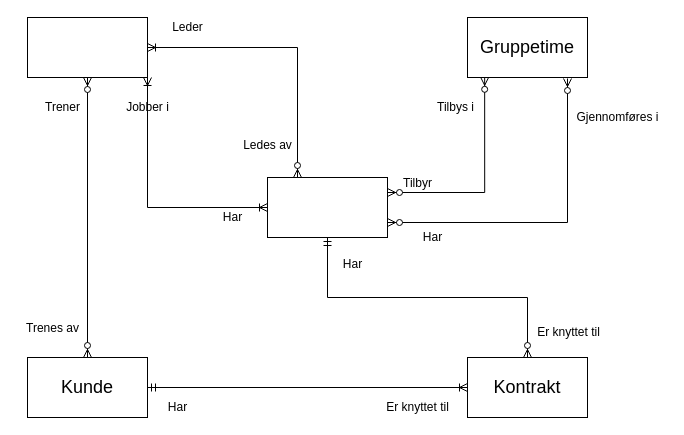
The diagram is 684 pixels wide and 435 high, and some of its shapes have lost their labels. Each missing label, with the centre of its shape:
"Ansatt" belongs at (87,47).
"Avdeling" belongs at (327,207).
